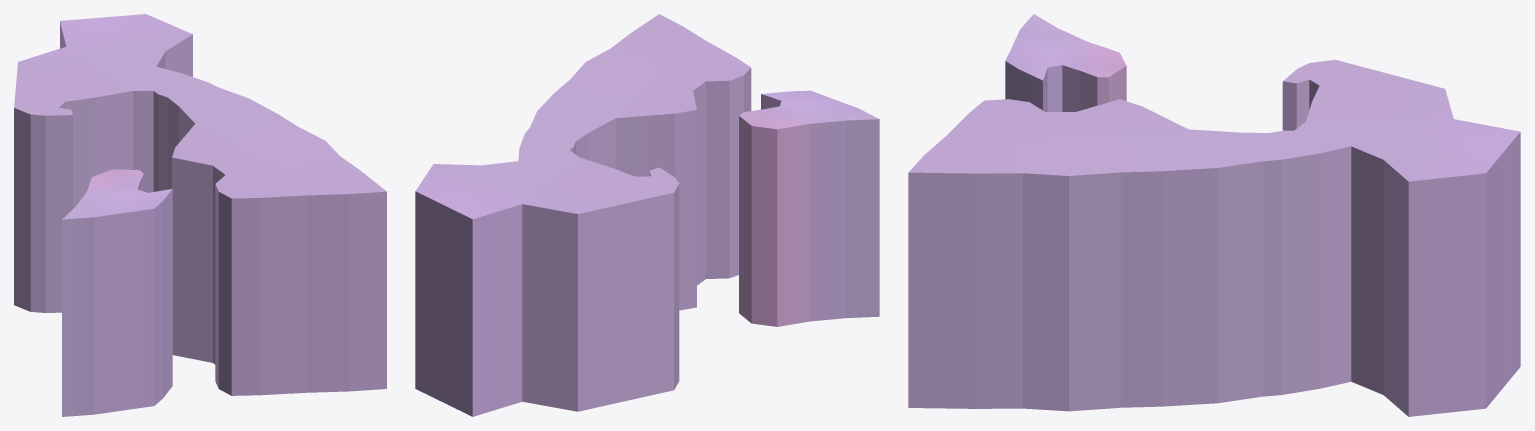
The model's file is aberdeen.glb.
3 renders of one model, left to right at view 1: azimuth 30°, elevation 25°; view 2: azimuth 150°, elevation 25°; view 3: azimuth 270°, elevation 25°, orthographic. The views are drawn at different scales.
Visible parts, largest first — view 1: Plane.048; view 2: Plane.048; view 3: Plane.048.
Boxes of the visible parts, left/top/right/bottom form: Plane.048: left=14, top=14, right=386, bottom=416; Plane.048: left=415, top=14, right=879, bottom=416; Plane.048: left=908, top=14, right=1520, bottom=416.
Bounding box in the file's own units: 0.5891 × 0.3856 × 0.9089.
1 material, 1 textured.
